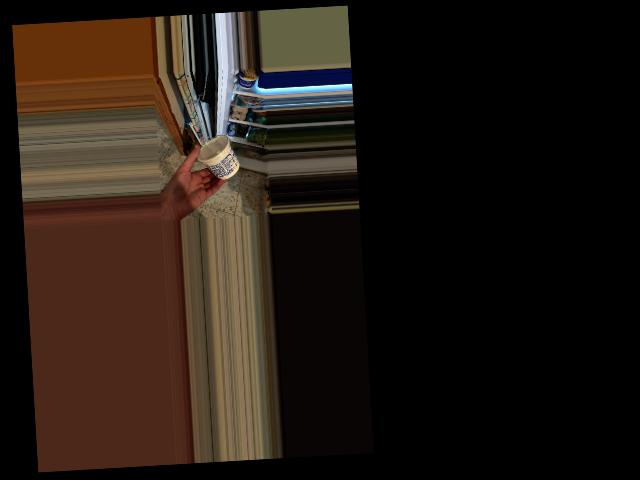cotage: (193, 134, 238, 177)
